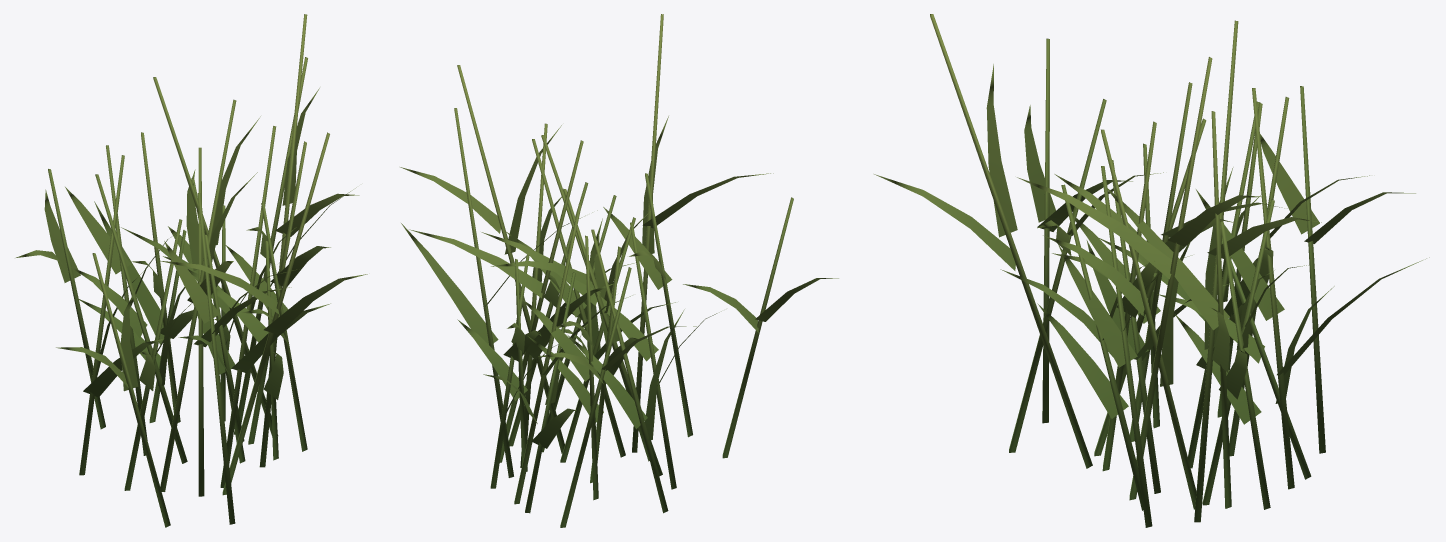
The model's file is reed_clump_b.glb.
3 views of the same model, side by side, from view 1: azimuth 30°, elevation 25°; view 2: azimuth 150°, elevation 25°; view 3: azimuth 270°, elevation 25° (orthographic). The views are drawn at different scales.
Visible parts, largest first — view 1: reed_clump_b; view 2: reed_clump_b; view 3: reed_clump_b.
Boxes of the visible parts, x1,y1,x2,y2 form: reed_clump_b: (16, 14, 367, 527); reed_clump_b: (400, 14, 838, 527); reed_clump_b: (874, 14, 1429, 527).
Size of the model in its own units: 1.33 by 1.34 by 1.4.
